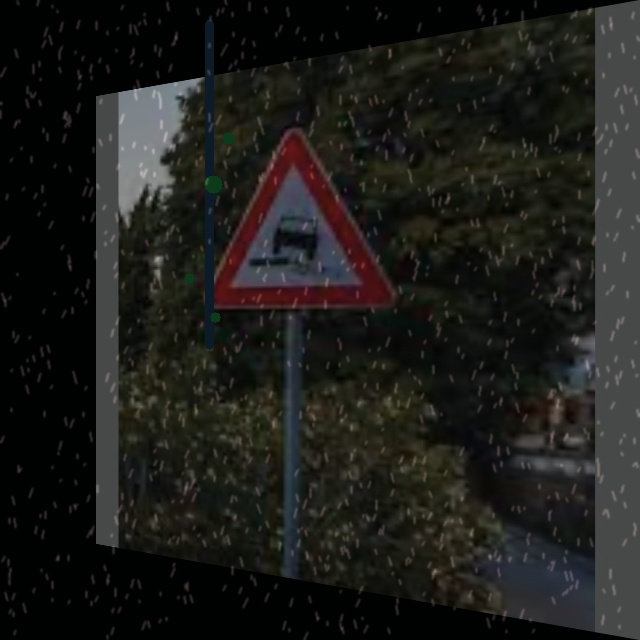Loose_Gravel: (206, 110, 397, 306)
